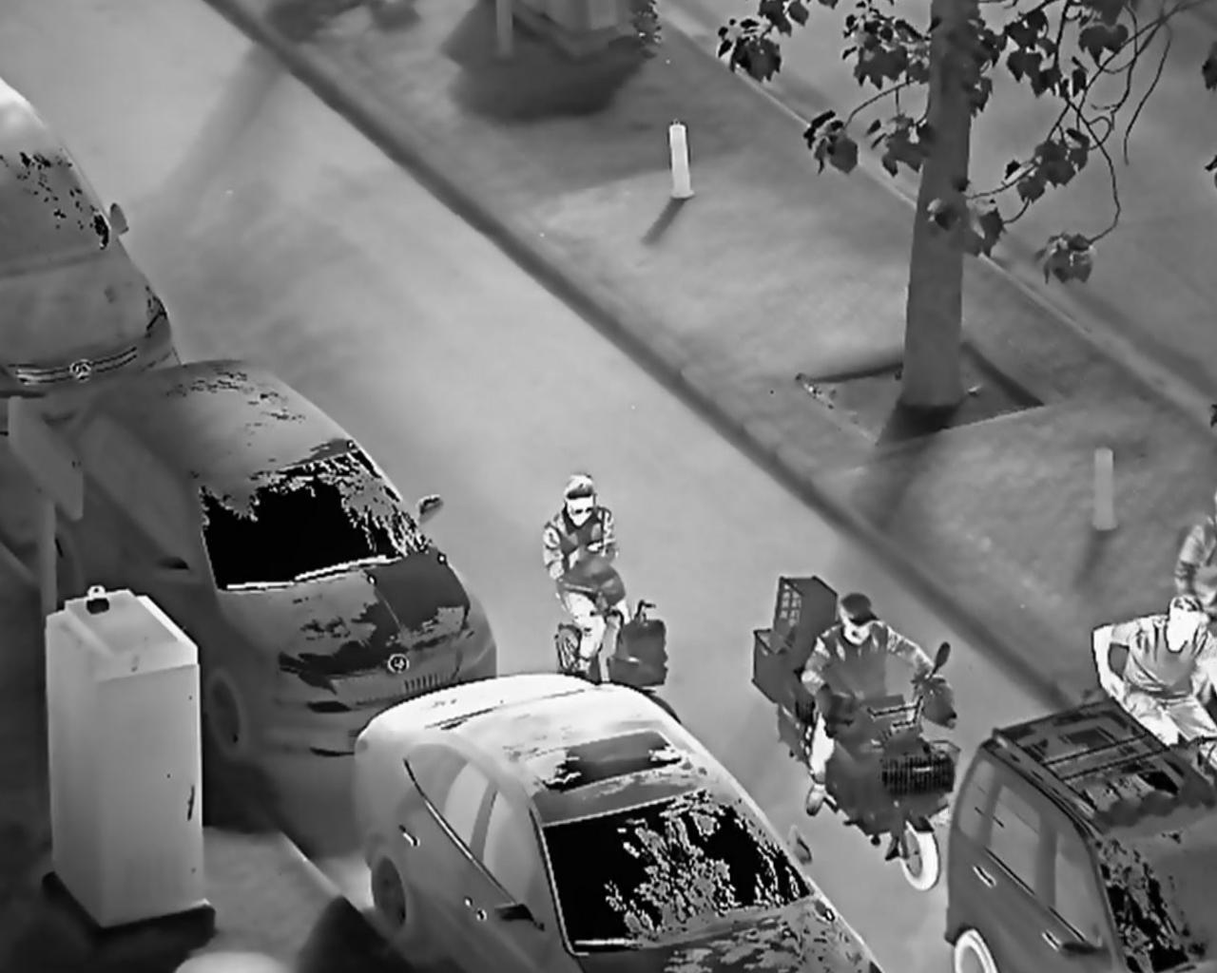person: (793, 590, 956, 817), (536, 467, 638, 691), (1091, 589, 1217, 767)
